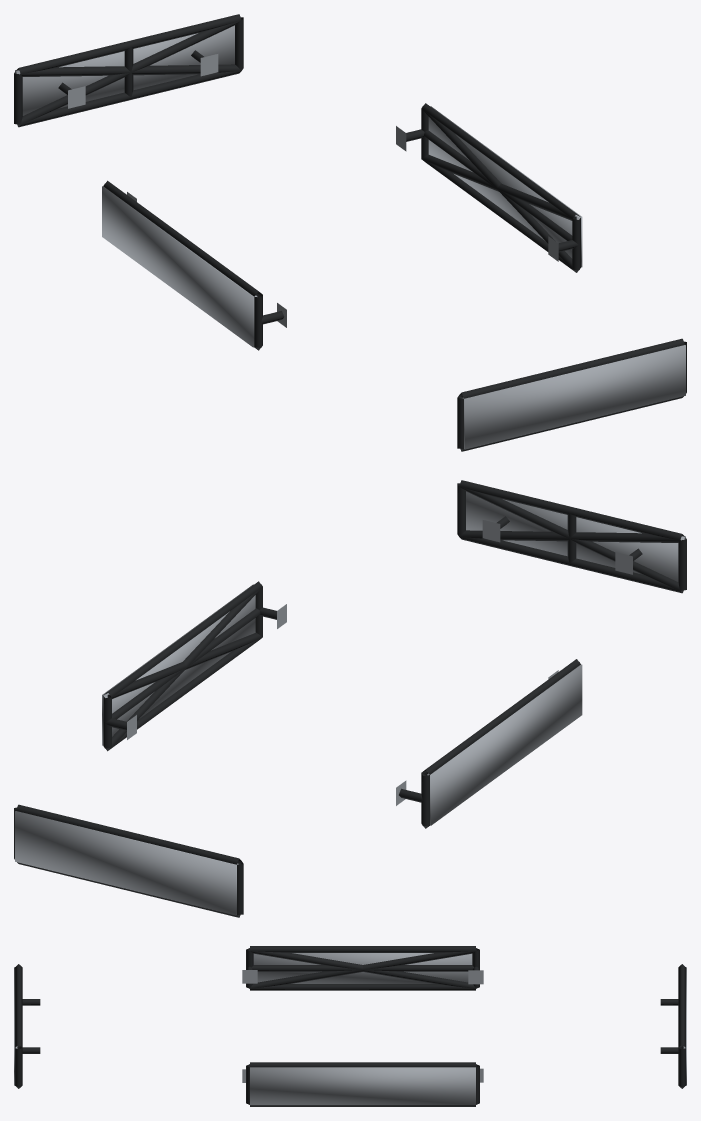
Rendered from kanaya_vertice_protecao.glb.
3 views of the same model, one above another, from view 1: azimuth 30°, elevation 25°; view 2: azimuth 150°, elevation 25°; view 3: azimuth 270°, elevation 25° (orthographic). The views are drawn at different scales.
Visible parts, largest first — view 1: Protection_front_Level3_Details, Protection_left_Level3_Details, Protection_rear_Level1_Details, Protection_rear_Level3_Details, Protection_right_Level1_Details, Protection_rear_Level2_Details, Protection_right_Level2_Details, Protection_right_Level3_Details, Protection_front_Level1_Details, Protection_left_Level1_Details; view 2: Protection_rear_Level3_Details, Protection_left_Level3_Details, Protection_front_Level1_Details, Protection_front_Level3_Details, Protection_right_Level1_Details, Protection_front_Level2_Details, Protection_right_Level2_Details, Protection_right_Level3_Details, Protection_rear_Level1_Details, Protection_left_Level1_Details; view 3: Protection_right_Level3_Details, Protection_left_Level2_Details, Protection_left_Level1_Details, Protection_left_Level3_Details, Protection_right_Level1_Details, Protection_rear_Level1_Details, Protection_front_Level1_Details.
Part boxes in pixels (x1=…): Protection_front_Level3_Details: x1=462, y1=345, x2=685, y2=449; Protection_left_Level3_Details: x1=102, y1=186, x2=257, y2=347; Protection_rear_Level1_Details: x1=14, y1=14, x2=243, y2=127; Protection_rear_Level3_Details: x1=15, y1=25, x2=234, y2=115; Protection_right_Level1_Details: x1=396, y1=103, x2=580, y2=272; Protection_rear_Level2_Details: x1=16, y1=20, x2=241, y2=126; Protection_right_Level2_Details: x1=422, y1=109, x2=580, y2=272; Protection_right_Level3_Details: x1=428, y1=106, x2=582, y2=267; Protection_front_Level1_Details: x1=457, y1=338, x2=686, y2=451; Protection_left_Level1_Details: x1=103, y1=180, x2=286, y2=350; Protection_rear_Level3_Details: x1=15, y1=811, x2=238, y2=915; Protection_left_Level3_Details: x1=427, y1=664, x2=582, y2=825; Protection_front_Level1_Details: x1=457, y1=480, x2=686, y2=593; Protection_front_Level3_Details: x1=466, y1=491, x2=685, y2=581; Protection_right_Level1_Details: x1=103, y1=581, x2=286, y2=751; Protection_front_Level2_Details: x1=459, y1=486, x2=684, y2=592; Protection_right_Level2_Details: x1=104, y1=588, x2=262, y2=750; Protection_right_Level3_Details: x1=102, y1=584, x2=255, y2=745; Protection_rear_Level1_Details: x1=14, y1=804, x2=243, y2=917; Protection_left_Level1_Details: x1=396, y1=659, x2=580, y2=828; Protection_right_Level3_Details: x1=250, y1=1067, x2=475, y2=1105; Protection_left_Level2_Details: x1=249, y1=948, x2=476, y2=988; Protection_left_Level1_Details: x1=242, y1=946, x2=483, y2=990; Protection_left_Level3_Details: x1=253, y1=953, x2=472, y2=983; Protection_right_Level1_Details: x1=242, y1=1062, x2=483, y2=1106; Protection_rear_Level1_Details: x1=660, y1=964, x2=685, y2=1088; Protection_front_Level1_Details: x1=15, y1=964, x2=40, y2=1088.
Bounding box in the file's own units: 2.05 × 0.354 × 4.85.
1 material, 1 textured.
